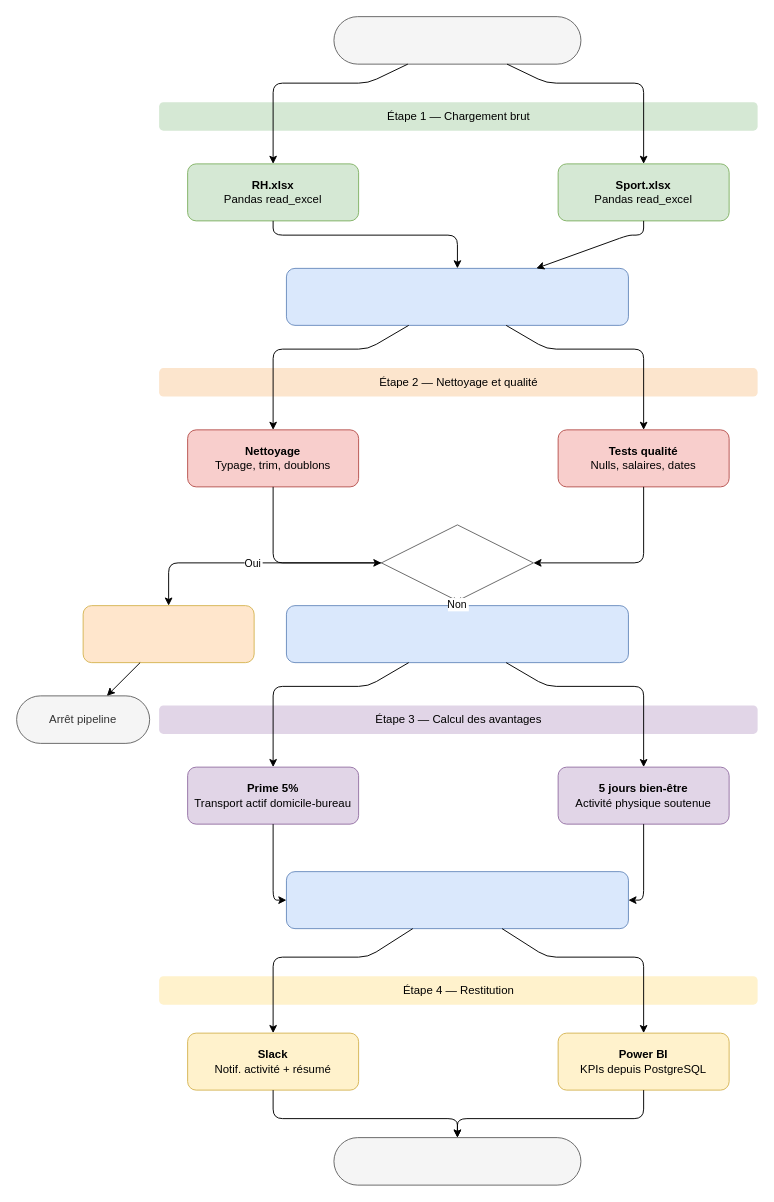
Some shapes in this 774 by 1202 pixel diagram are drawn without their labels. The shapes that lost their labels are listed below. From the top down, each one's centre as x and y in pixels, then its label:
At (457,40): "Déclenchement Kestra".
At (456,296): "PostgreSQL — données brutes raw_employees · raw_sports".
At (456,562): "Erreurs ?".
At (168,634): "Log erreur quality_errors + Slack".
At (456,634): "PostgreSQL — données propres employees_clean · sports_clean".
At (456,900): "PostgreSQL — résultats finaux benefits — prime · bien-être · coût total".
At (457,1161): "Pipeline terminé".
